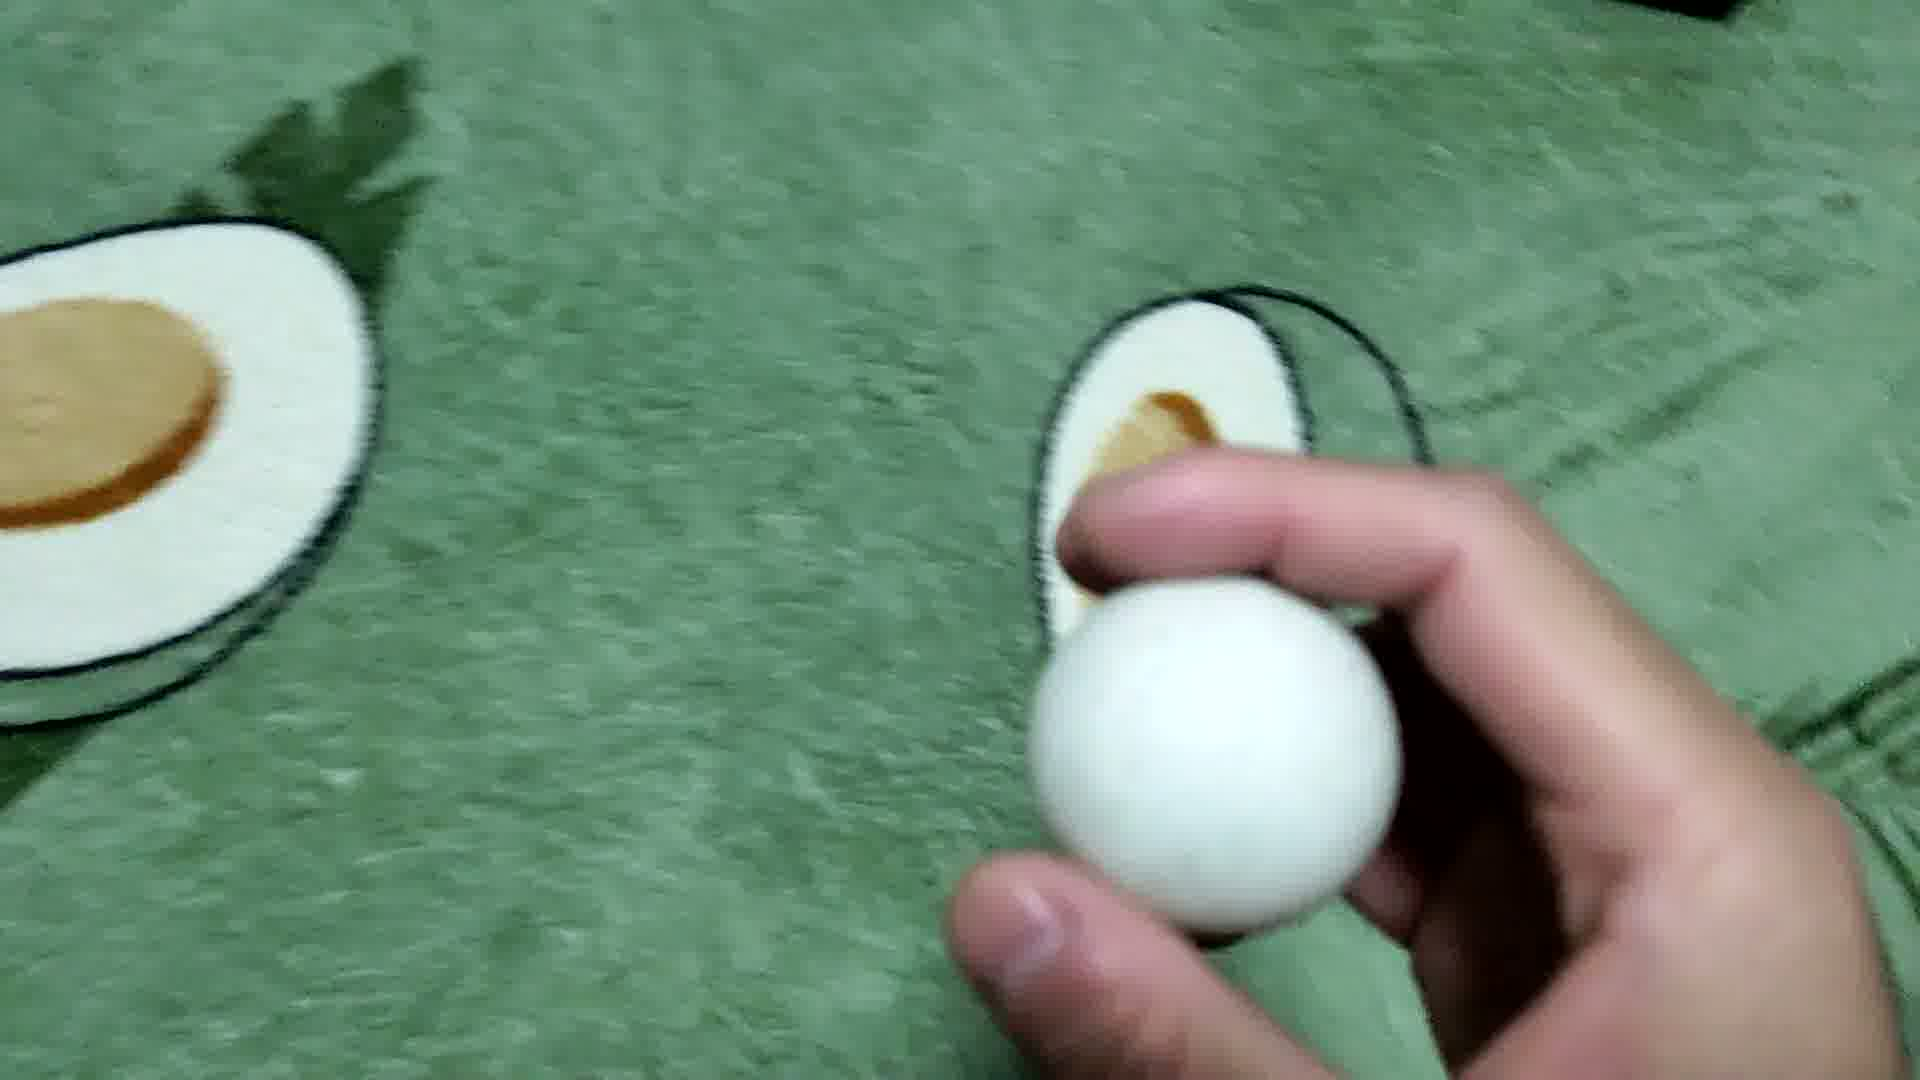Ball: (1027, 568, 1399, 935)
